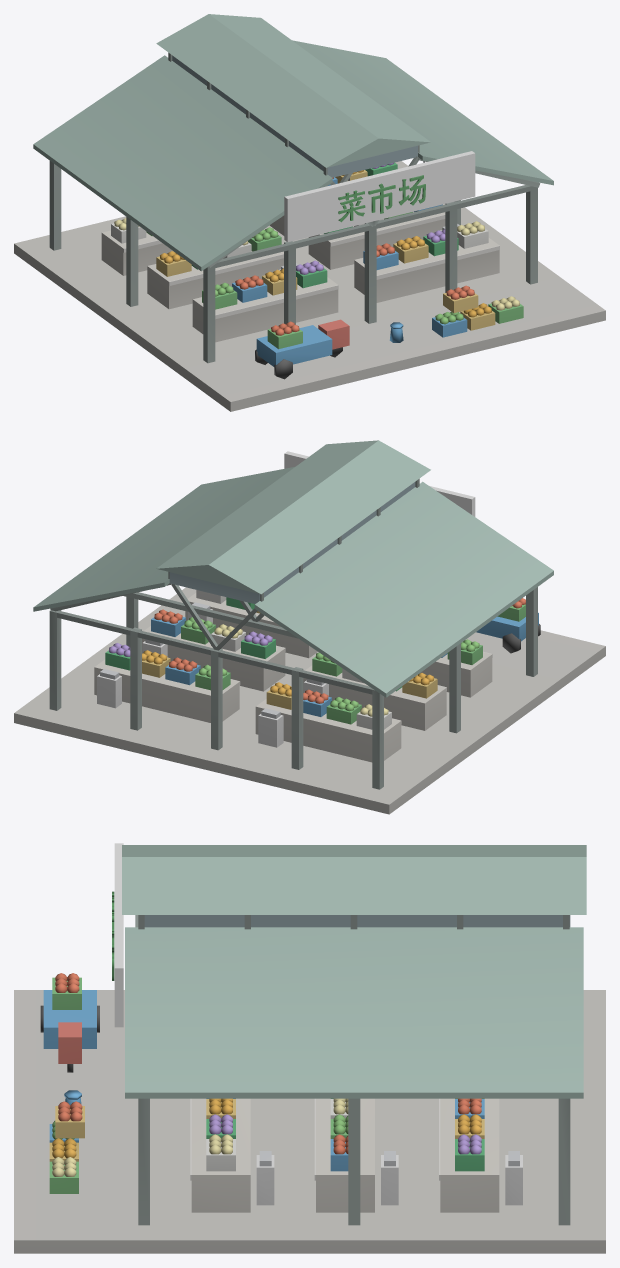
Rendered from market.glb.
The picture shows the model from 3 angles, top to bottom: view 1: azimuth 30°, elevation 25°; view 2: azimuth 150°, elevation 25°; view 3: azimuth 270°, elevation 25°; orthographic projection. The views are drawn at different scales.
Parts seen in each view (by area): view 1: market; view 2: market; view 3: market.
Part boxes in pixels (x1,y1,x2,y2): market: (14,14,605,411); market: (14,440,605,814); market: (14,843,605,1253).
Size of the model in its own units: 2 by 1.01 by 2.
